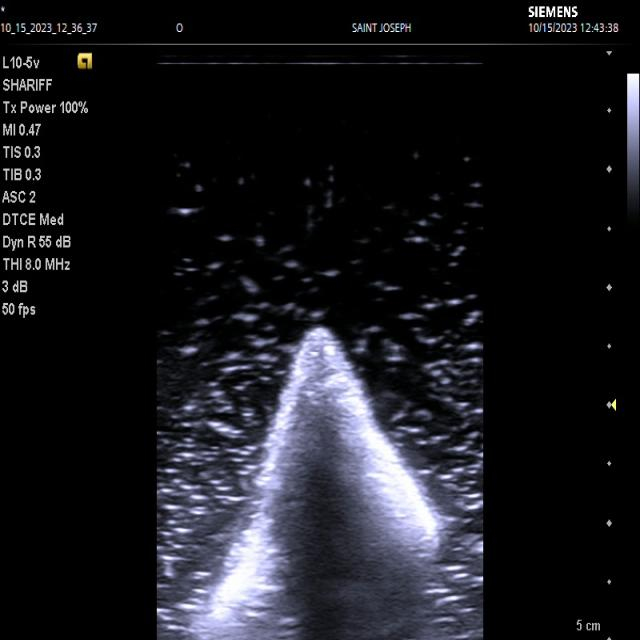tissue: (191, 327, 439, 640)
